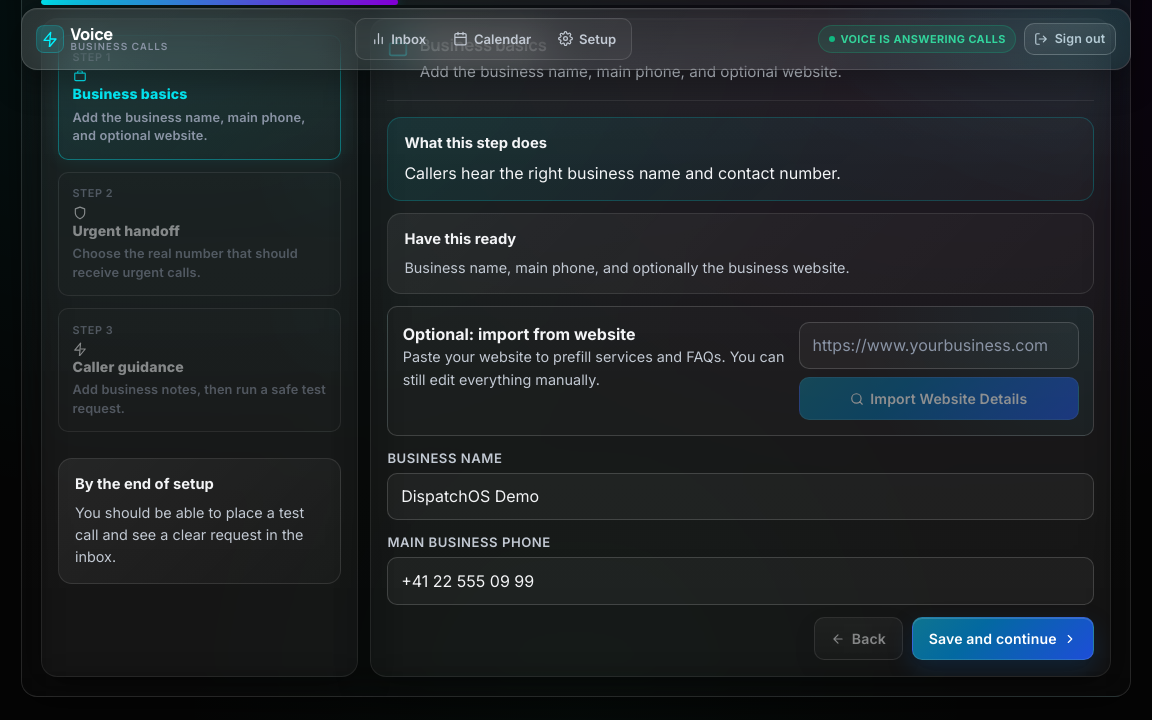
Test case: web app › shows tenant-specific webhook urls during onboarding
(page scrolled)
Step 1. Click the button "Save and continue" → (1003,638), box [912, 617, 1094, 660]
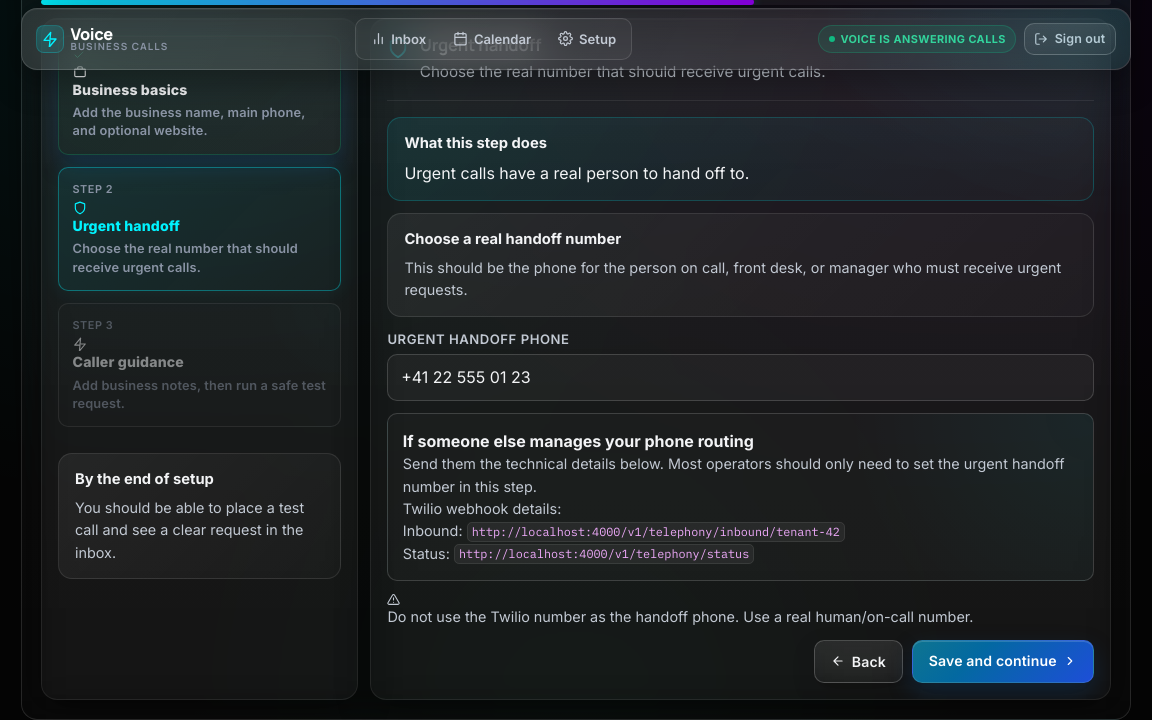
Now the text "Urgent handoff phone" is shown, box [387, 331, 570, 347]
Now the text "http://localhost:4000/v1/telephony/inbound/tenant-42" is shown, box [467, 522, 845, 542]
